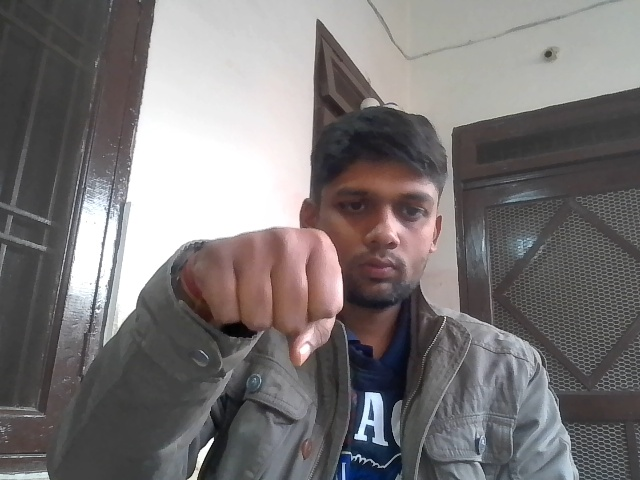Yes: (176, 204, 370, 385)
